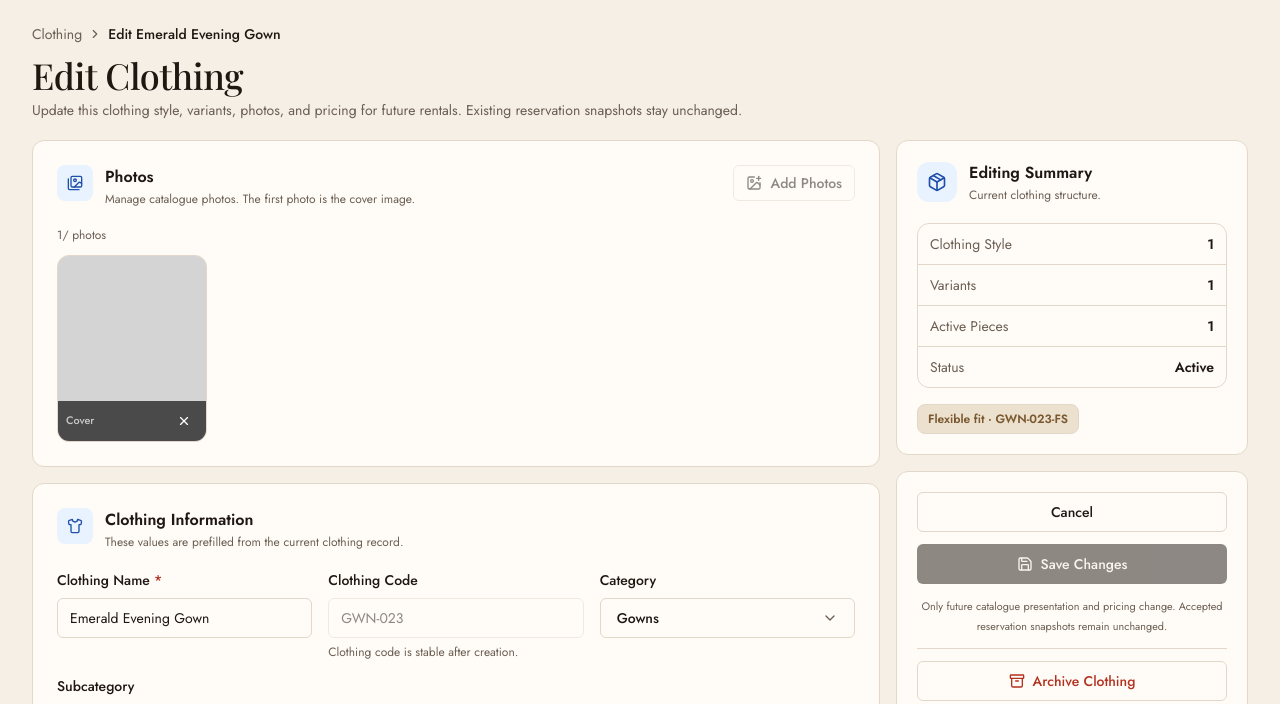
Test: EditClothingPage › requires saved edits before changing sizing mode and blocks adding variants in Free size mode
Check: the heading "Edit Clothing" is shown, box [32, 51, 243, 99]
Step 1. Replace the text in the field labelled "Clothing Name" with "Unsaved Cape" → (185, 618), box [57, 598, 312, 638]
(page scrolled)
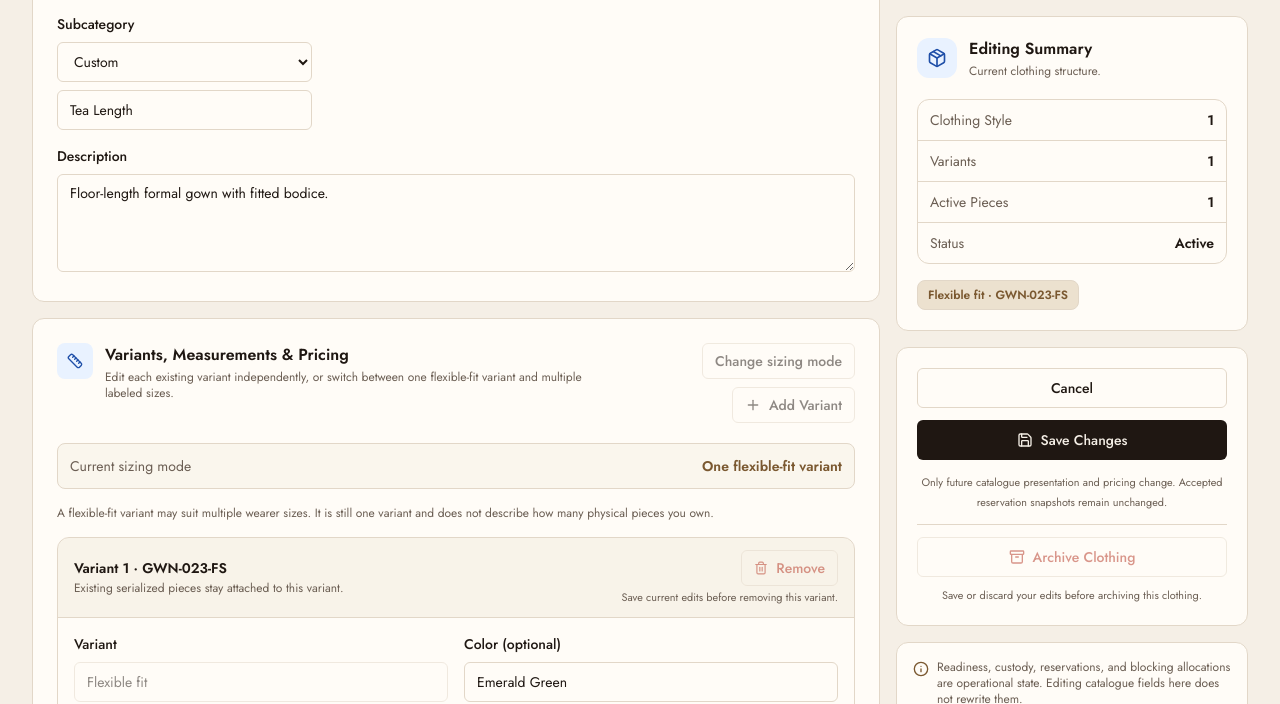
Check: the button "Change sizing mode" is disabled, box [702, 343, 855, 379]
